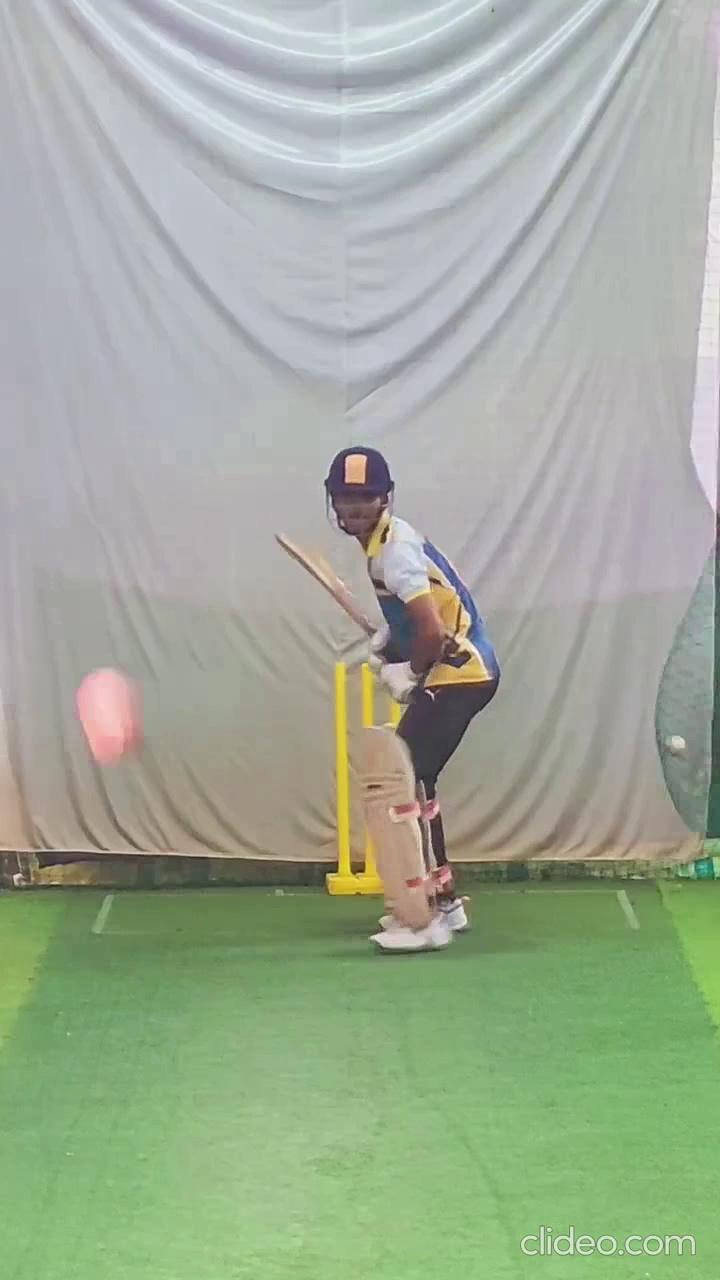bat: (271, 518, 383, 644)
